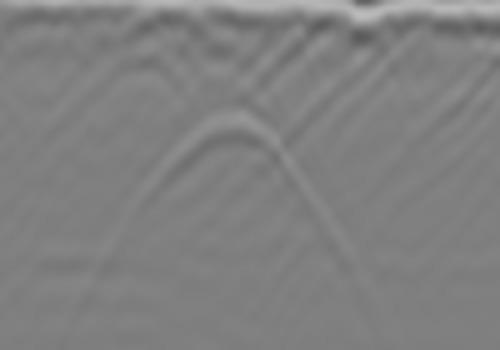hyperbola: (135, 102, 310, 230)
